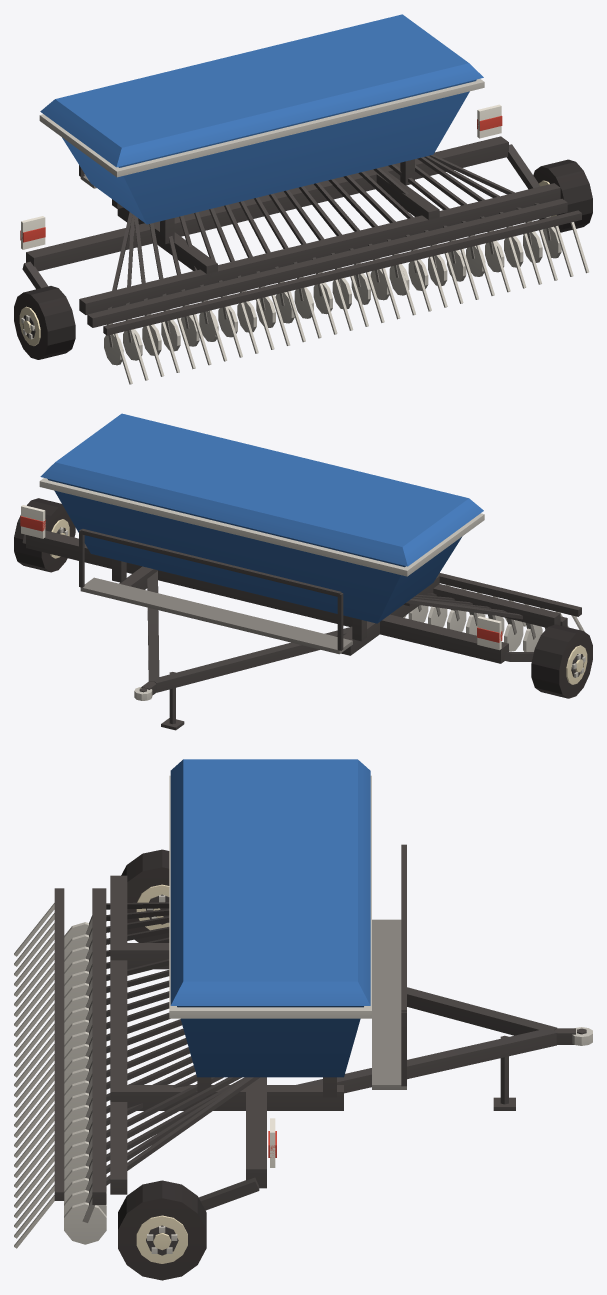
The model's file is seeder_basic.glb.
3 views of the same model, one above another, from view 1: azimuth 30°, elevation 25°; view 2: azimuth 150°, elevation 25°; view 3: azimuth 270°, elevation 25° (orthographic). The views are drawn at different scales.
Visible parts, largest first — view 1: seeder_basic, spin_main_L, spin_main_R; view 2: seeder_basic, spin_main_L, spin_main_R; view 3: seeder_basic, spin_main_R, spin_main_L.
Part boxes in pixels (x1,y1,x2,y2): seeder_basic: (20,14,589,384); spin_main_L: (14,286,75,359); spin_main_R: (533,159,592,232); seeder_basic: (20,413,584,730); spin_main_L: (531,624,592,698); spin_main_R: (14,498,75,572); seeder_basic: (14,759,592,1248); spin_main_R: (118,1180,206,1280); spin_main_L: (121,849,169,942).
Bounding box in the file's own units: 5.99 × 1.86 × 4.14.
Materials: 2 (2 with a texture image).
